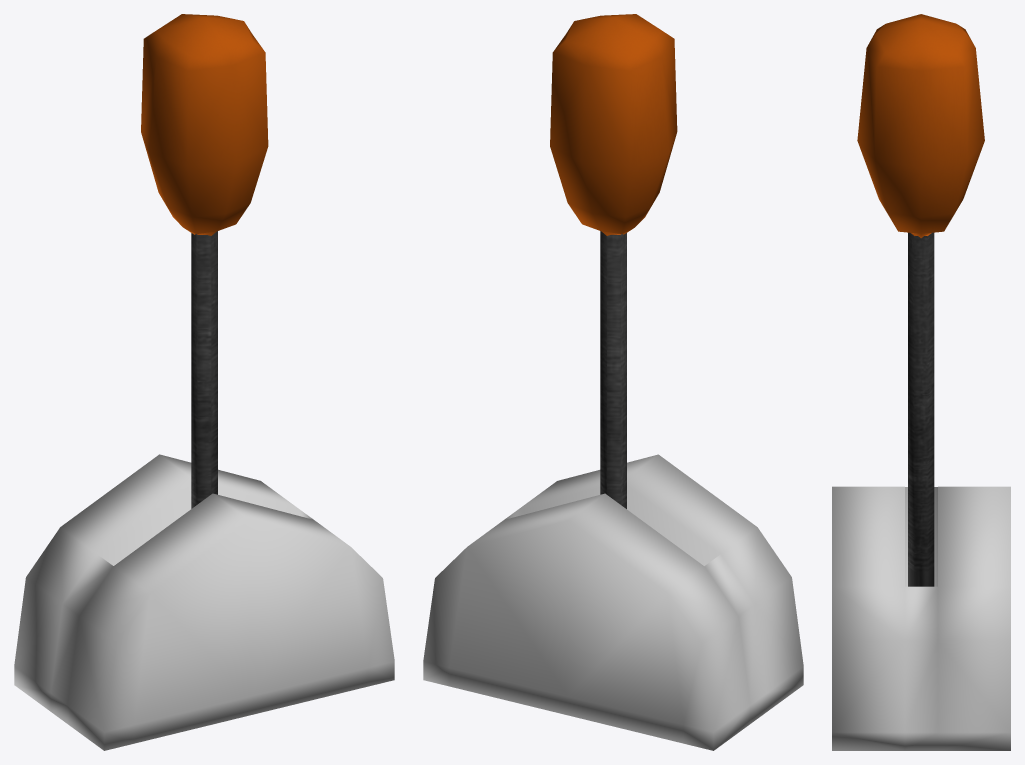
Rendered from switch9.fbx.
The picture shows the model from 3 angles, left to right: view 1: azimuth 30°, elevation 25°; view 2: azimuth 150°, elevation 25°; view 3: azimuth 270°, elevation 25°; orthographic projection.
Visible parts, largest first — view 1: Base, Switch; view 2: Base, Switch; view 3: Base, Switch.
Boxes of the visible parts, x1,y1,x2,y2 form: Base: [14, 454, 394, 750]; Switch: [141, 14, 268, 508]; Base: [423, 454, 803, 750]; Switch: [550, 14, 677, 508]; Base: [832, 486, 1010, 750]; Switch: [857, 14, 984, 586].
Size of the model in its own units: 290 by 636 by 156.
